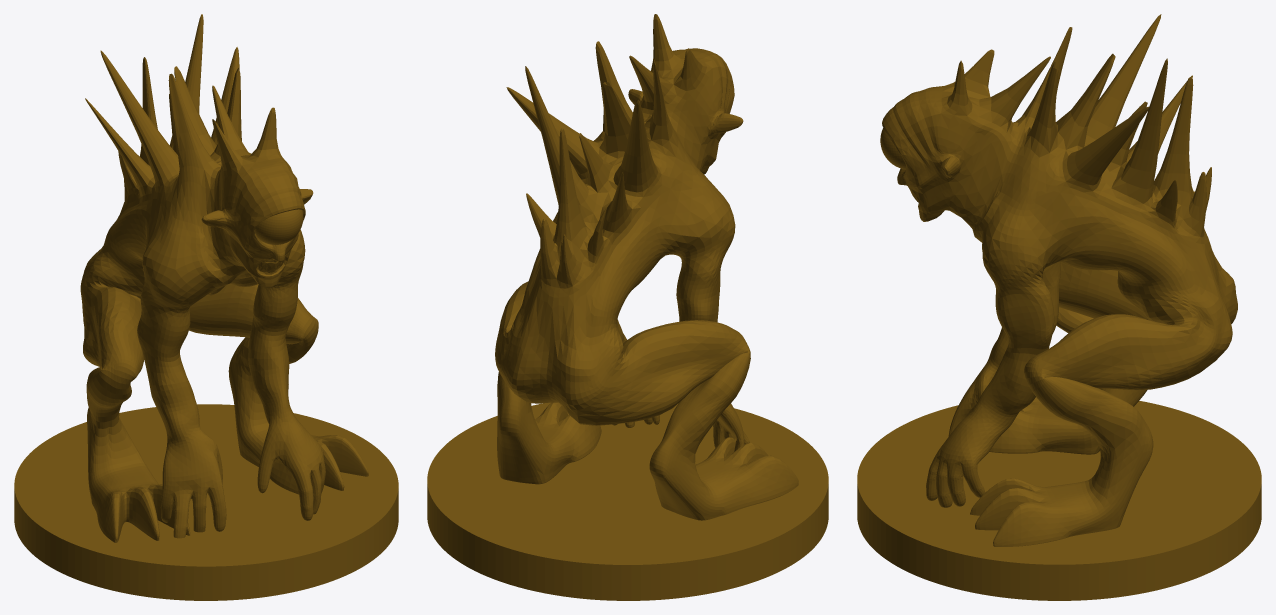
The model's file is Nothic.fbx.
The picture shows the model from 3 angles, left to right: view 1: azimuth 30°, elevation 25°; view 2: azimuth 150°, elevation 25°; view 3: azimuth 270°, elevation 25°; orthographic projection. The views are drawn at different scales.
Parts seen in each view (by area): view 1: Nothic; view 2: Nothic; view 3: Nothic.
Boxes of the visible parts, <box> form: Nothic: <box>14,14,398,600</box>; Nothic: <box>427,14,828,600</box>; Nothic: <box>857,14,1261,600</box>.
Size of the model in its own units: 2525 by 3312 by 2525.
